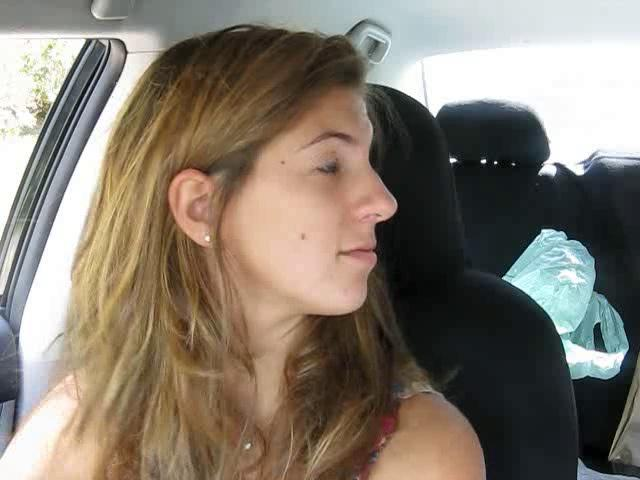close_eyeL: (297, 149, 365, 193)
no_yawn: (319, 230, 388, 275)
